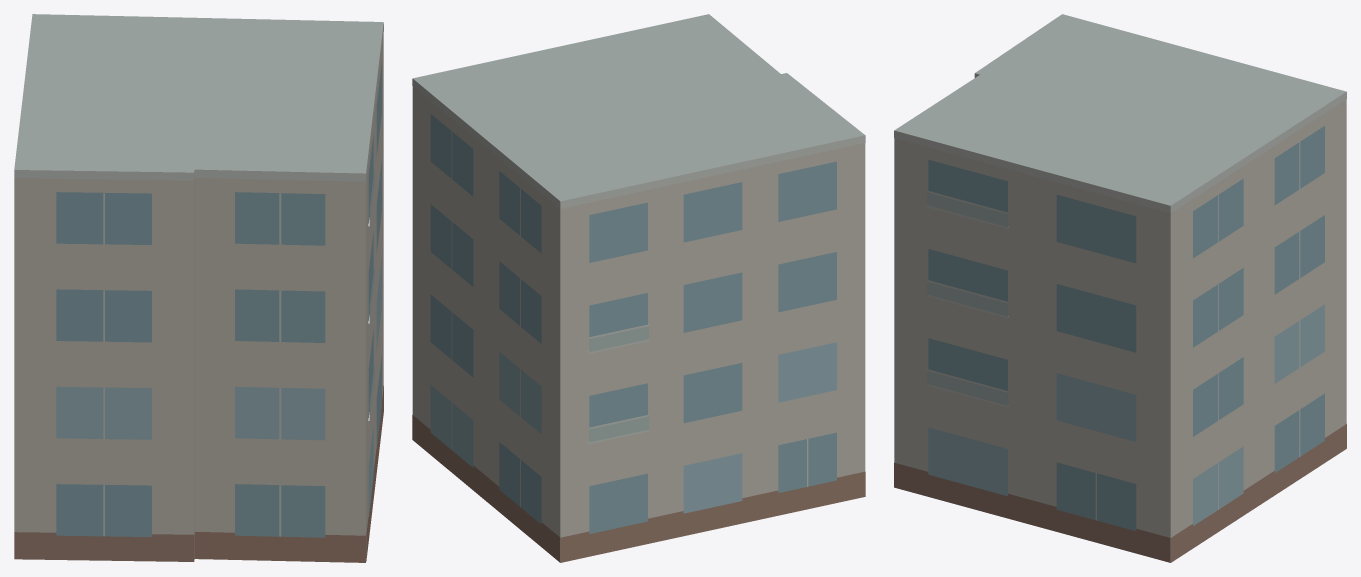
The model's file is survey-upis-32759176.glb.
3 views of the same model, side by side, from view 1: azimuth 30°, elevation 25°; view 2: azimuth 150°, elevation 25°; view 3: azimuth 270°, elevation 25° (orthographic). The views are drawn at different scales.
Parts seen in each view (by area): view 1: survey-upis-32759176.tmp; view 2: survey-upis-32759176.tmp; view 3: survey-upis-32759176.tmp.
Boxes of the visible parts, bbox=[...] form: survey-upis-32759176.tmp: bbox=[14, 14, 383, 562]; survey-upis-32759176.tmp: bbox=[412, 14, 865, 562]; survey-upis-32759176.tmp: bbox=[894, 14, 1346, 562].
Bounding box in the file's own units: 13.32 × 11.55 × 13.28.
